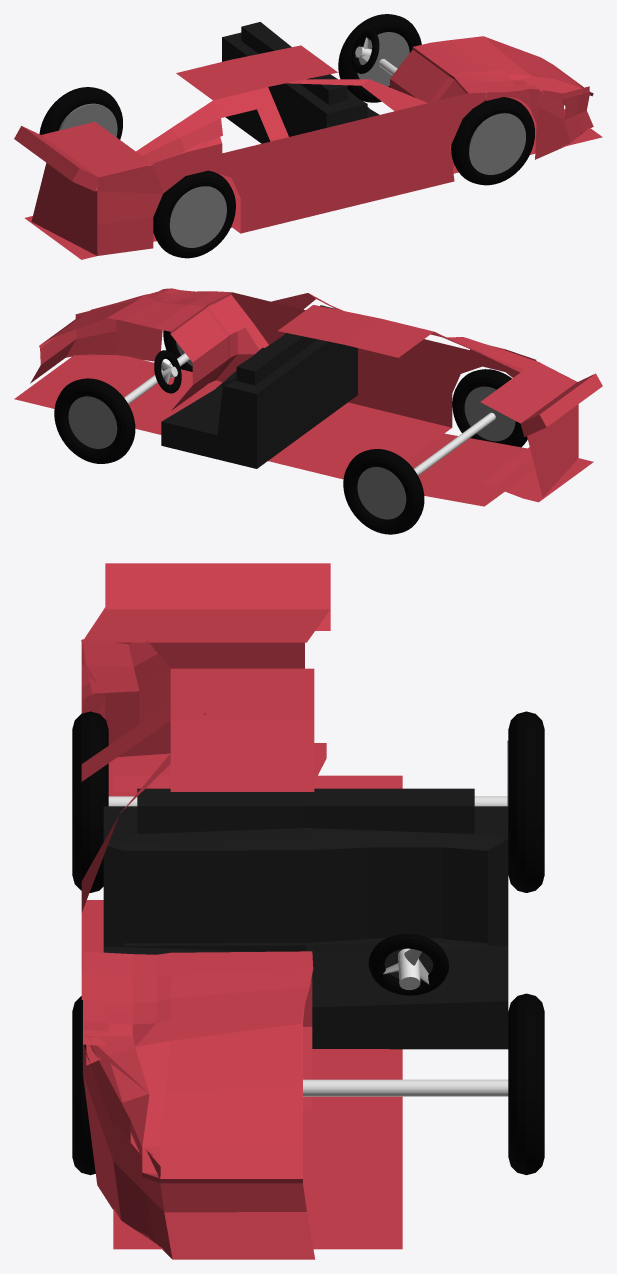
File: dupe.glb
3 views of the same model, one above another, from view 1: azimuth 30°, elevation 25°; view 2: azimuth 150°, elevation 25°; view 3: azimuth 270°, elevation 25° (orthographic). The views are drawn at different scales.
Parts seen in each view (by area): view 1: Plane, Cube, Torus.001, Torus.002, Cylinder.001, Cylinder, Torus.005, Torus.004, Cylinder.005, Cylinder.002, Torus; view 2: Plane, Cube, Torus.005, Torus.004, Cylinder.002, Cylinder.005, Torus.002, Cylinder.001, Cylinder.006, Torus, Cylinder.007, Torus.001; view 3: Plane, Cube, Torus.004, Torus.005, Torus.002, Cylinder.007, Torus, Torus.001.
Boxes of the visible parts, x1=… form: Plane: x1=14, y1=36, x2=602, y2=259; Cube: x1=222, y1=22, x2=379, y2=143; Torus.001: x1=451, y1=97, x2=534, y2=185; Torus.002: x1=153, y1=170, x2=235, y2=258; Cylinder.001: x1=169, y1=186, x2=226, y2=247; Cylinder: x1=469, y1=113, x2=525, y2=174; Torus.005: x1=338, y1=14, x2=421, y2=102; Torus.004: x1=39, y1=87, x2=122, y2=139; Cylinder.005: x1=357, y1=32, x2=409, y2=86; Cylinder.002: x1=58, y1=103, x2=117, y2=136; Torus: x1=351, y1=29, x2=379, y2=73; Plane: x1=14, y1=288, x2=602, y2=506; Cube: x1=161, y1=305, x2=357, y2=468; Torus.005: x1=54, y1=378, x2=135, y2=463; Torus.004: x1=343, y1=449, x2=424, y2=534; Cylinder.002: x1=357, y1=467, x2=406, y2=519; Cylinder.005: x1=68, y1=396, x2=117, y2=448; Torus.002: x1=452, y1=369, x2=527, y2=447; Cylinder.001: x1=464, y1=386, x2=515, y2=441; Cylinder.006: x1=414, y1=412, x2=495, y2=475; Torus: x1=154, y1=350, x2=181, y2=393; Cylinder.007: x1=124, y1=353, x2=189, y2=404; Torus.001: x1=163, y1=330, x2=192, y2=371; Plane: x1=81, y1=563, x2=402, y2=1259; Cube: x1=103, y1=788, x2=508, y2=1049; Torus.004: x1=508, y1=711, x2=544, y2=892; Torus.005: x1=508, y1=993, x2=544, y2=1175; Torus.002: x1=72, y1=711, x2=108, y2=892; Cylinder.007: x1=303, y1=1079, x2=508, y2=1096; Torus: x1=368, y1=933, x2=448, y2=995; Torus.001: x1=72, y1=996, x2=95, y2=1175.
Size of the model in its own units: 8.39 by 1.96 by 3.3.
14 materials, 14 textured.
